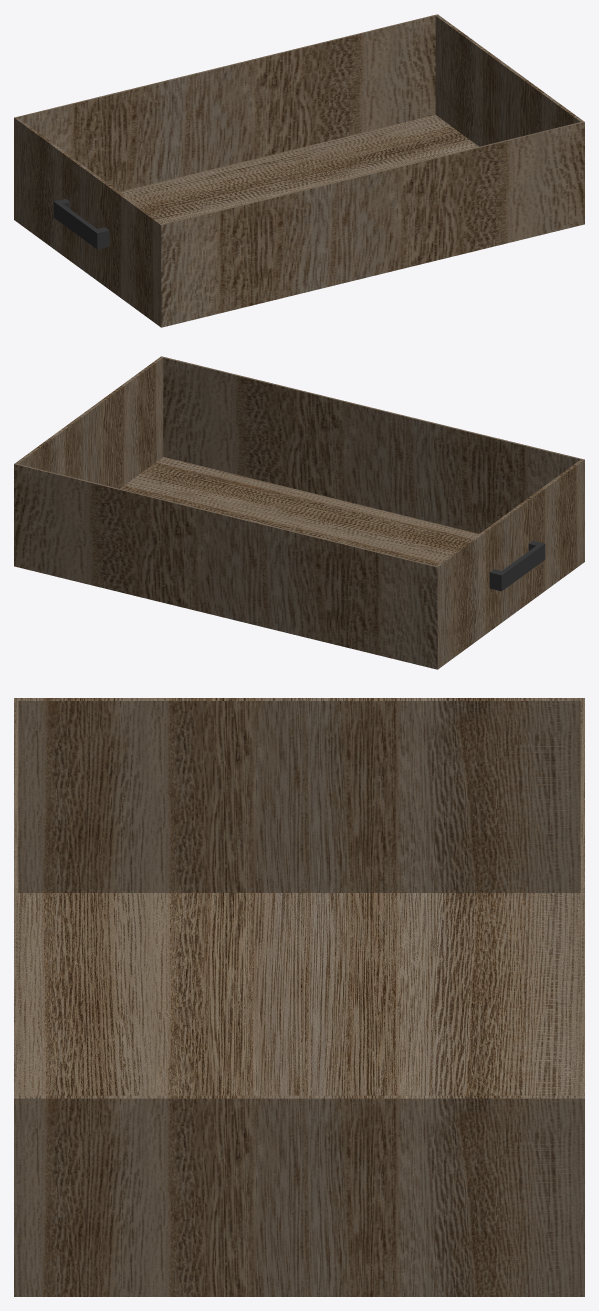
Rendered from Desk1.obj.
The picture shows the model from 3 angles, top to bottom: view 1: azimuth 30°, elevation 25°; view 2: azimuth 150°, elevation 25°; view 3: azimuth 270°, elevation 25°; orthographic projection. The views are drawn at different scales.
Visible parts, largest first — view 1: Drawer_1_Cube.015; view 2: Drawer_1_Cube.015; view 3: Drawer_1_Cube.015.
Part boxes in pixels (x1,y1,x2,y2): Drawer_1_Cube.015: (14,14,584,327); Drawer_1_Cube.015: (14,356,584,669); Drawer_1_Cube.015: (14,698,584,1296).
Bounding box in the file's own units: 1.1 × 0.2465 × 0.6433.
Materials: 2 (2 with a texture image).
